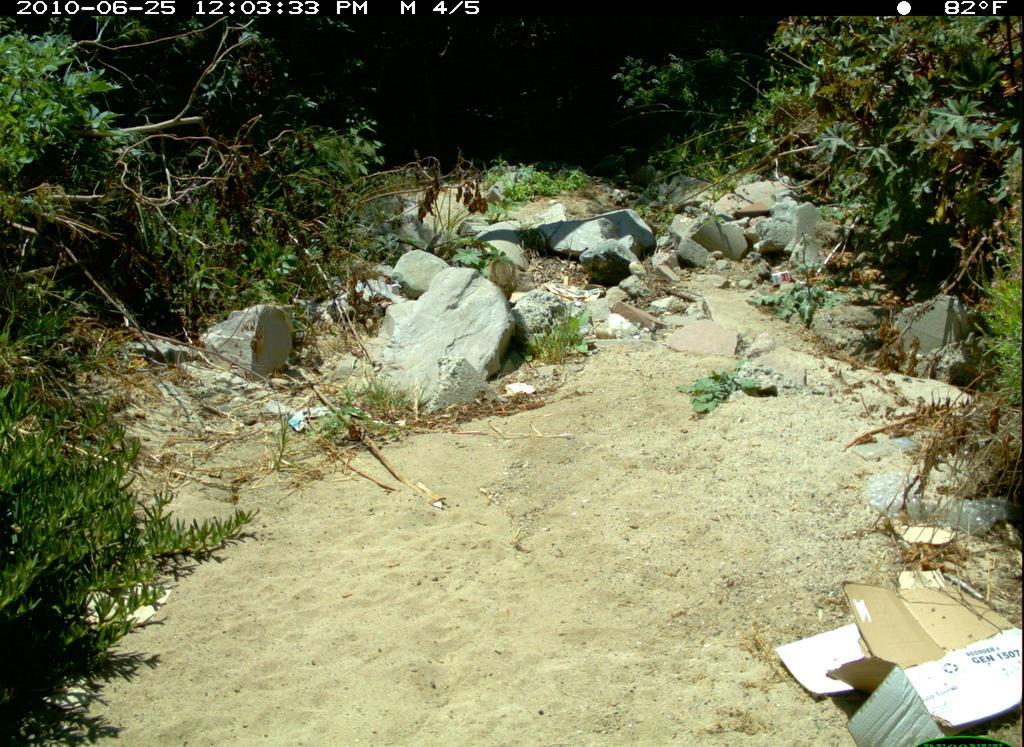squirrel: (485, 255, 526, 303)
